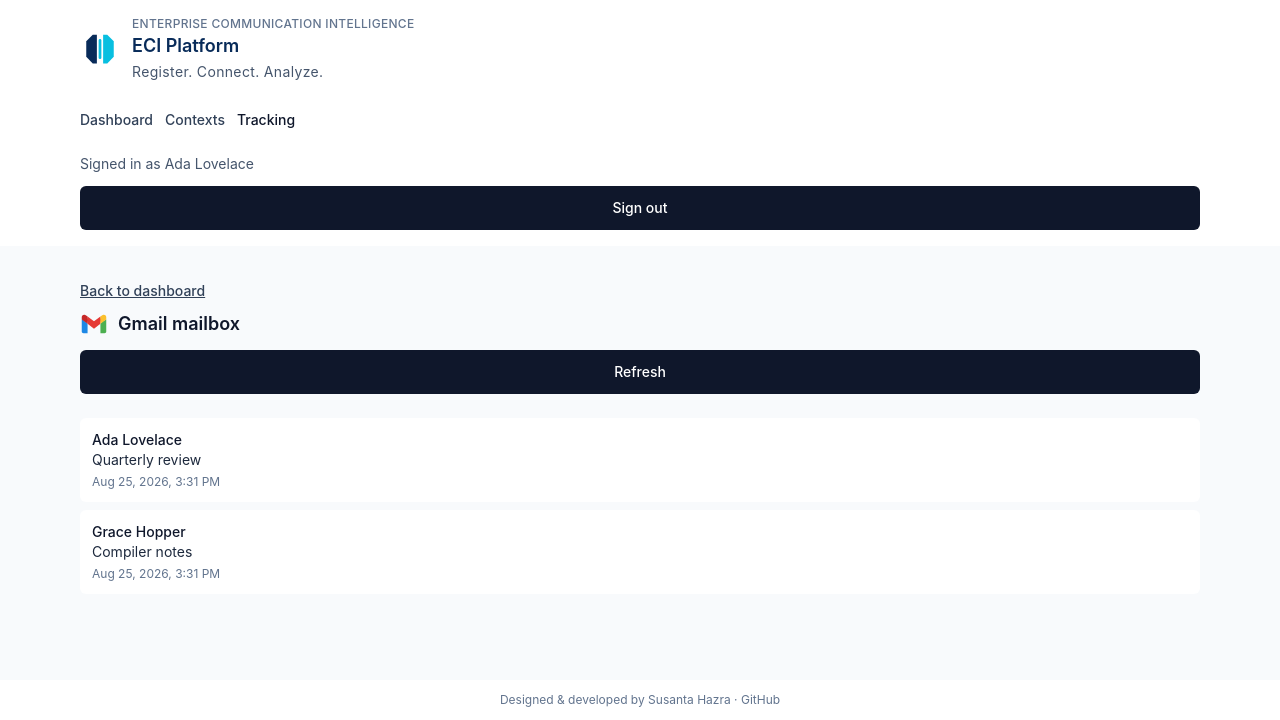
Test: attachment metadata › offers Analyze for JPEG/PNG only when platform health reports image input available
The image size is (1280, 720).
Click the button "Ada Lovelace Quarterly review Aug 25, 2026, 3:31 PM".
click(137, 440)  # box [80,418,1200,502]
(page scrolled)
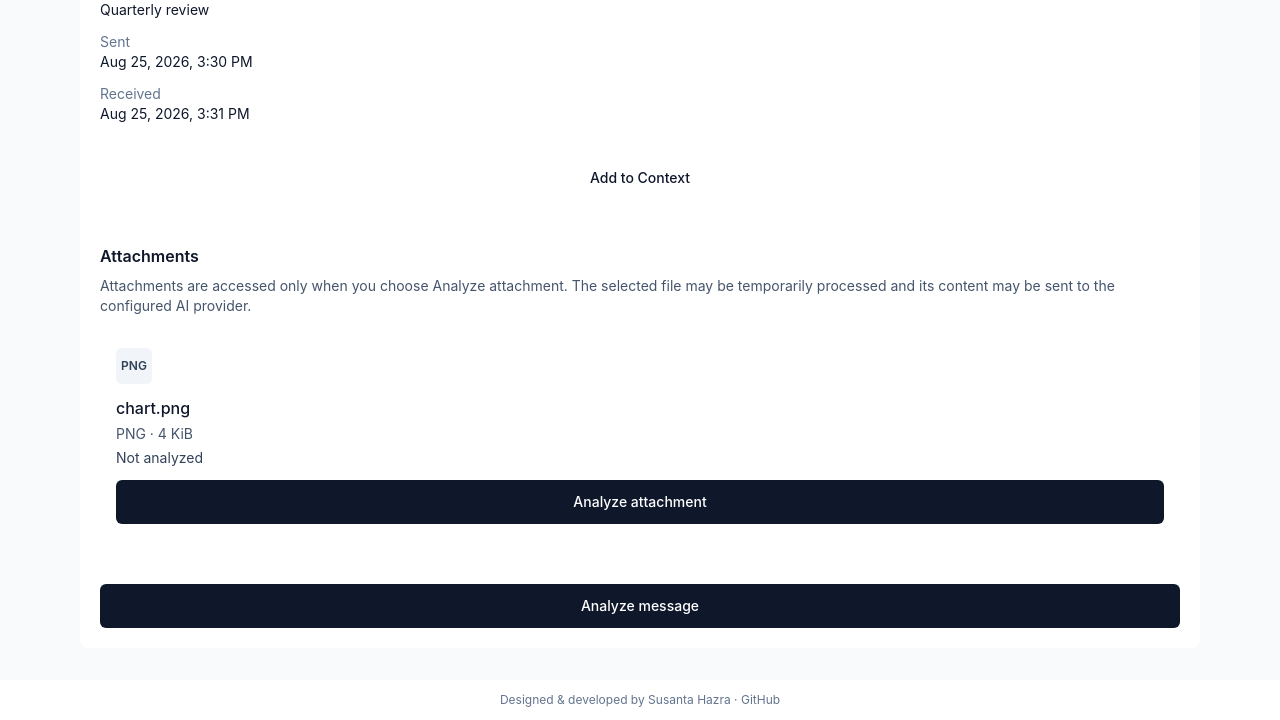
Now the button with aria-label "Analyze attachment: chart.png" is enabled, box [116,480,1164,524]
